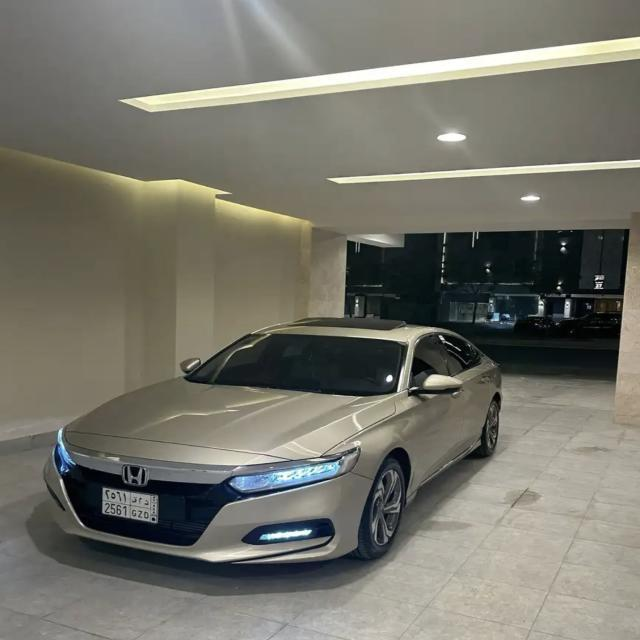license_plate: (102, 486, 159, 526)
